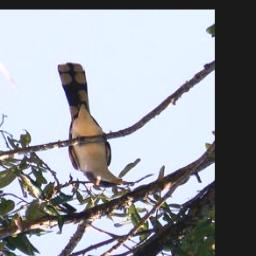Cuckoo: (54, 60, 134, 189)
